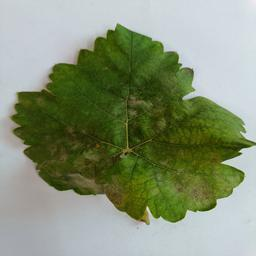Powdery-Mildew: (50, 141, 128, 202), (177, 151, 236, 205), (211, 111, 241, 141), (122, 90, 151, 121), (131, 204, 148, 221), (149, 178, 165, 195)
